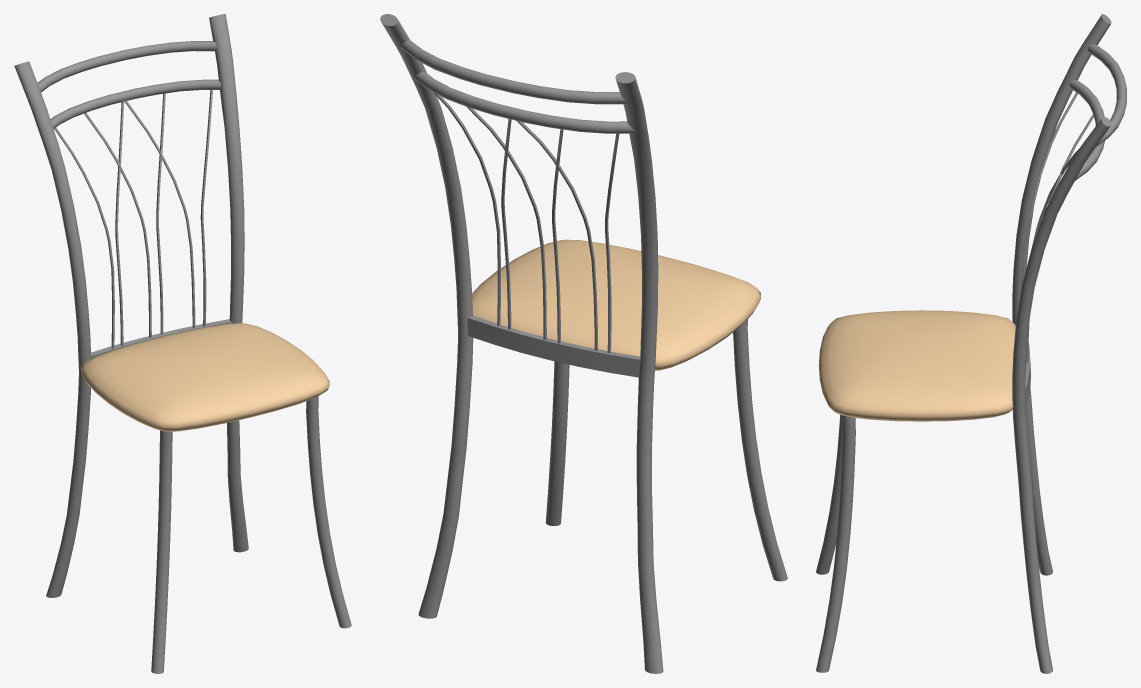
3 renders of one model, left to right at view 1: azimuth 30°, elevation 25°; view 2: azimuth 150°, elevation 25°; view 3: azimuth 270°, elevation 25°, orthographic. The views are drawn at different scales.
Parts seen in each view (by area): view 1: Box004, Cylinder006, Cylinder002, Cylinder009, Cylinder007, Cylinder008; view 2: Box004, Cylinder006, Cylinder002, Cylinder007, Cylinder008, Cylinder009; view 3: Box004, Cylinder006, Cylinder009, Cylinder002, Cylinder007, Cylinder008.
Part boxes in pixels (bbox=[...]): Box004: bbox=[54, 89, 329, 431]; Cylinder006: bbox=[14, 14, 248, 597]; Cylinder002: bbox=[151, 430, 172, 673]; Cylinder009: bbox=[306, 396, 351, 628]; Cylinder007: bbox=[37, 41, 216, 92]; Cylinder008: bbox=[50, 79, 221, 128]; Box004: bbox=[433, 92, 761, 370]; Cylinder006: bbox=[380, 14, 663, 673]; Cylinder002: bbox=[733, 319, 787, 581]; Cylinder007: bbox=[400, 39, 627, 104]; Cylinder008: bbox=[413, 71, 637, 133]; Cylinder009: bbox=[545, 361, 569, 525]; Box004: bbox=[818, 92, 1093, 421]; Cylinder006: bbox=[1012, 14, 1111, 673]; Cylinder009: bbox=[816, 415, 855, 672]; Cylinder002: bbox=[816, 414, 842, 574]; Cylinder007: bbox=[1087, 44, 1126, 146]; Cylinder008: bbox=[1069, 80, 1104, 180].
Bounding box in the file's own units: 38.01 × 88.84 × 45.21.
